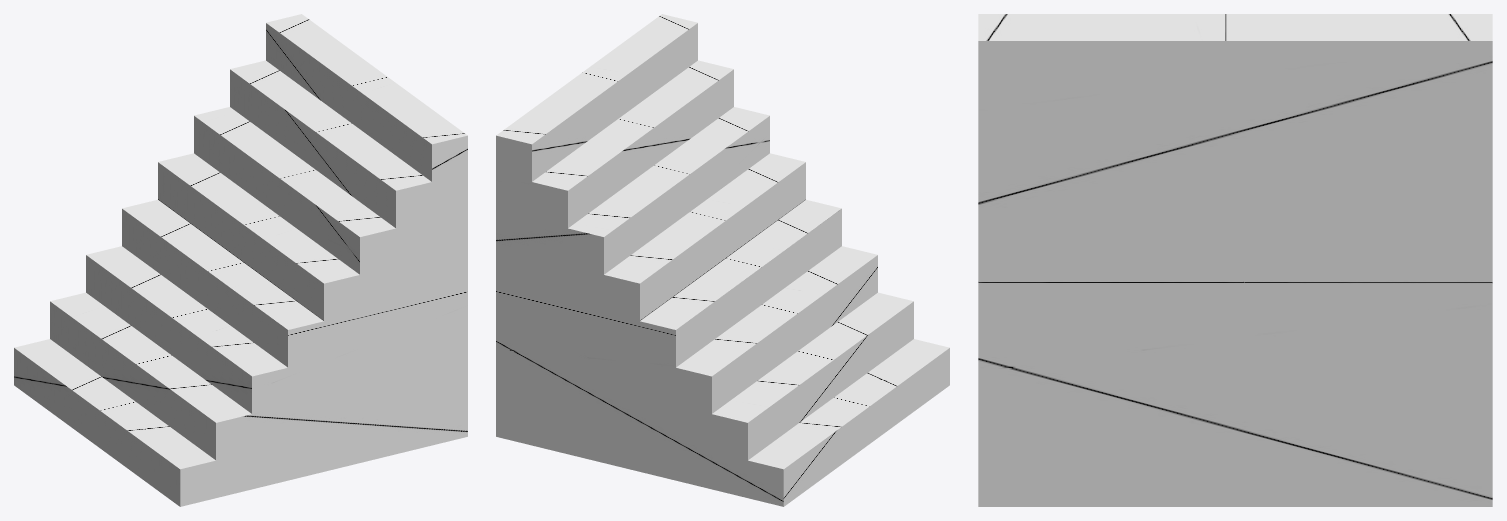
Rendered from EspacioPirateriaEscaleraExteriorNI.gltf.
3 views of the same model, side by side, from view 1: azimuth 30°, elevation 25°; view 2: azimuth 150°, elevation 25°; view 3: azimuth 270°, elevation 25° (orthographic). The views are drawn at different scales.
Visible parts, largest first — view 1: Escalera; view 2: Escalera; view 3: Escalera.
Boxes of the visible parts, x1,y1,x2,y2 form: Escalera: [14, 14, 467, 506]; Escalera: [496, 14, 949, 506]; Escalera: [978, 14, 1492, 506].
Bounding box in the file's own units: 2 × 2 × 2.
Materials: 1 (1 with a texture image).
